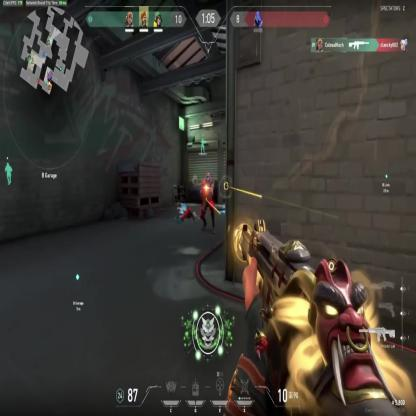enemy: (199, 171, 216, 234)
enemy_head: (204, 173, 210, 185)
